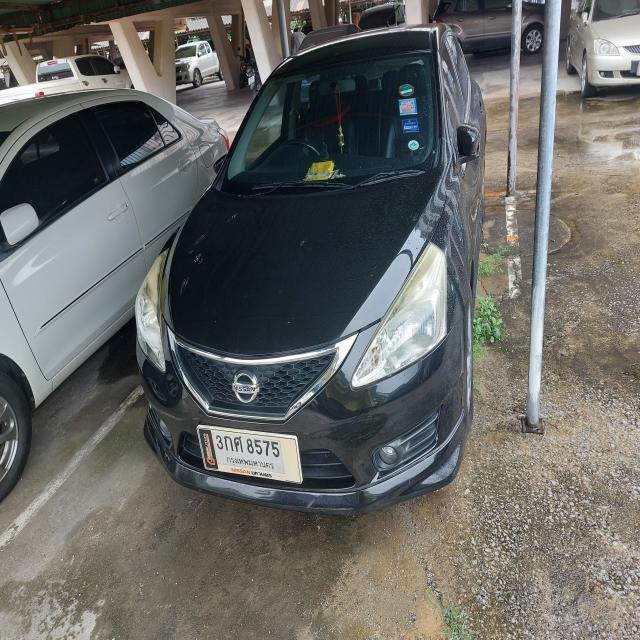license_plate: (198, 421, 305, 487)
